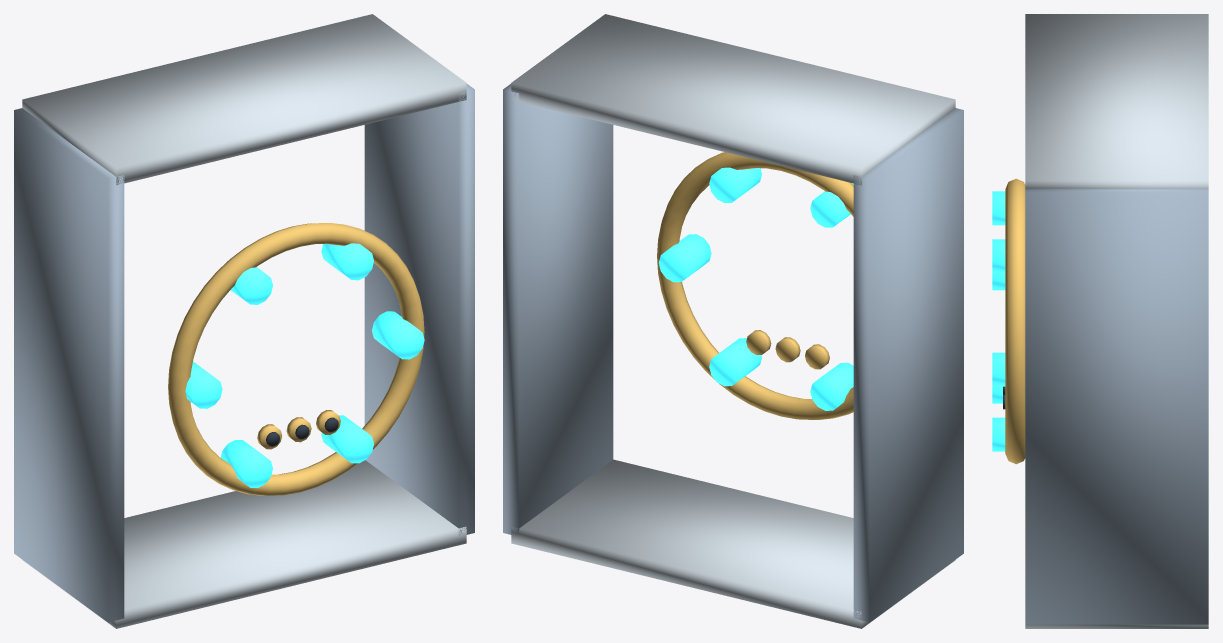
The model's file is 32_L89_DosimeterCalibrationFrame.glb.
3 views of the same model, side by side, from view 1: azimuth 30°, elevation 25°; view 2: azimuth 150°, elevation 25°; view 3: azimuth 270°, elevation 25° (orthographic). The views are drawn at different scales.
Visible parts, largest first — view 1: L87_DosimeterCalibrationFrame_Part_0000, L87_DosimeterCalibrationFrame_Part_0001, L87_DosimeterCalibrationFrame_Part_0002, L87_DosimeterCalibrationFrame_Part_0003; view 2: L87_DosimeterCalibrationFrame_Part_0000, L87_DosimeterCalibrationFrame_Part_0001, L87_DosimeterCalibrationFrame_Part_0002, L87_DosimeterCalibrationFrame_Part_0003; view 3: L87_DosimeterCalibrationFrame_Part_0000, L87_DosimeterCalibrationFrame_Part_0001, L87_DosimeterCalibrationFrame_Part_0002, L87_DosimeterCalibrationFrame_Part_0003.
Part boxes in pixels (left/top/right/bottom): L87_DosimeterCalibrationFrame_Part_0000: left=14, top=83, right=474, bottom=622; L87_DosimeterCalibrationFrame_Part_0001: left=22, top=14, right=466, bottom=628; L87_DosimeterCalibrationFrame_Part_0002: left=168, top=223, right=424, bottom=495; L87_DosimeterCalibrationFrame_Part_0003: left=185, top=243, right=424, bottom=487; L87_DosimeterCalibrationFrame_Part_0000: left=503, top=83, right=963, bottom=622; L87_DosimeterCalibrationFrame_Part_0001: left=511, top=14, right=955, bottom=628; L87_DosimeterCalibrationFrame_Part_0002: left=657, top=152, right=853, bottom=419; L87_DosimeterCalibrationFrame_Part_0003: left=658, top=167, right=853, bottom=410; L87_DosimeterCalibrationFrame_Part_0000: left=1025, top=188, right=1208, bottom=624; L87_DosimeterCalibrationFrame_Part_0001: left=1025, top=14, right=1208, bottom=628; L87_DosimeterCalibrationFrame_Part_0002: left=1005, top=178, right=1025, bottom=464; L87_DosimeterCalibrationFrame_Part_0003: left=992, top=191, right=1005, bottom=451.
Size of the model in its own units: 2.25 by 2.7 by 1.18.
